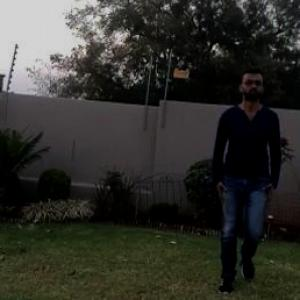follow: (194, 56, 285, 299)
